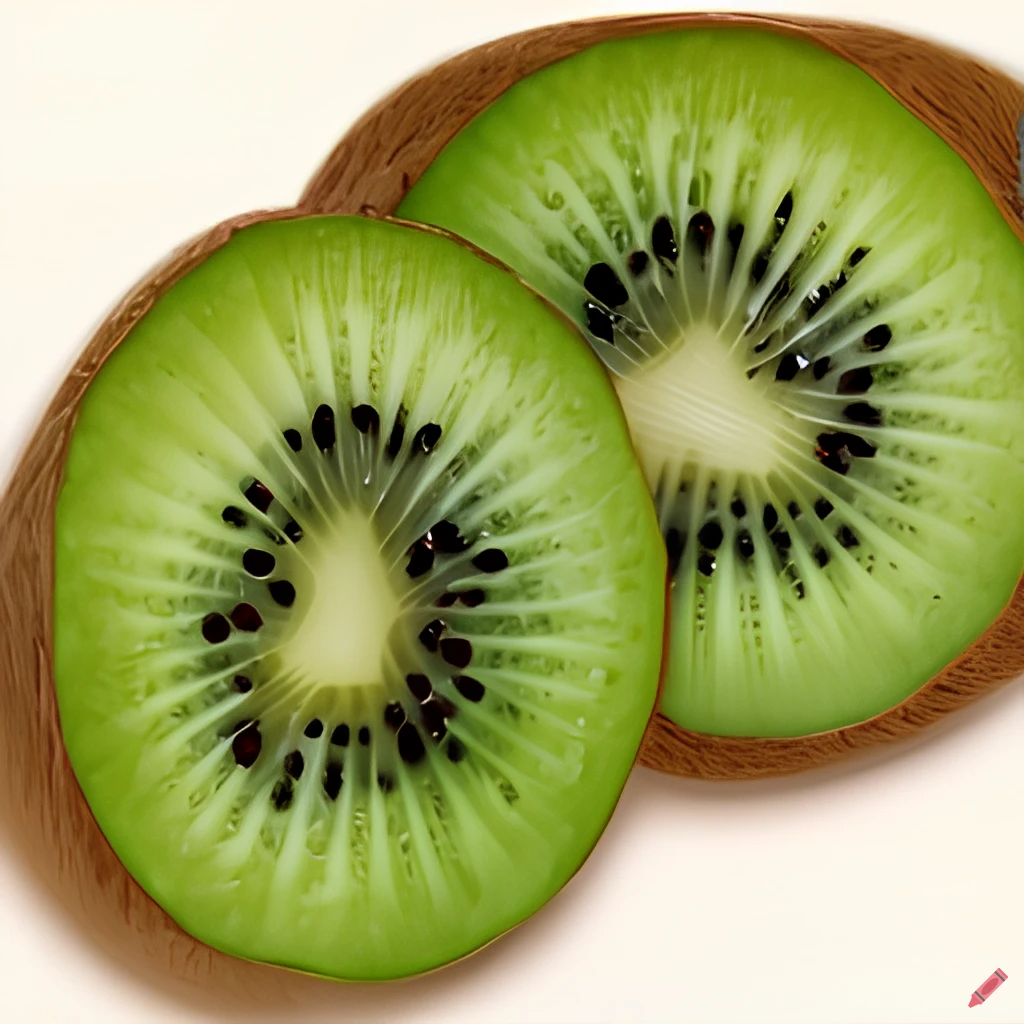Kiwi: (0, 179, 652, 998)
